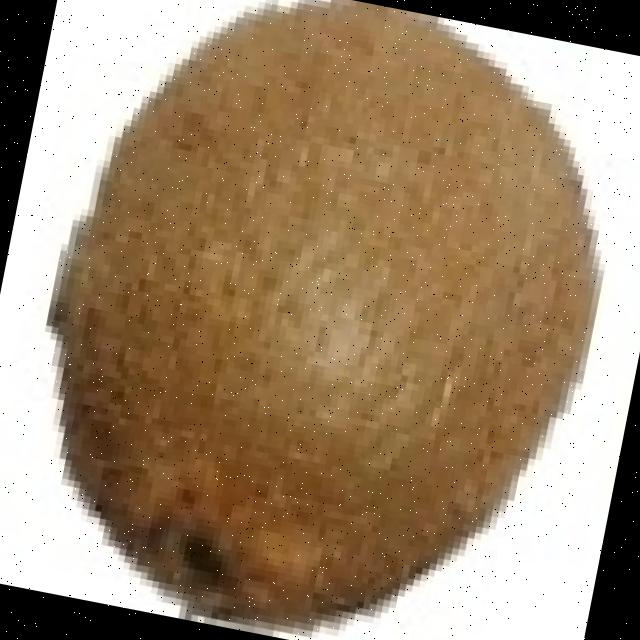kiwi: (66, 0, 606, 620)
